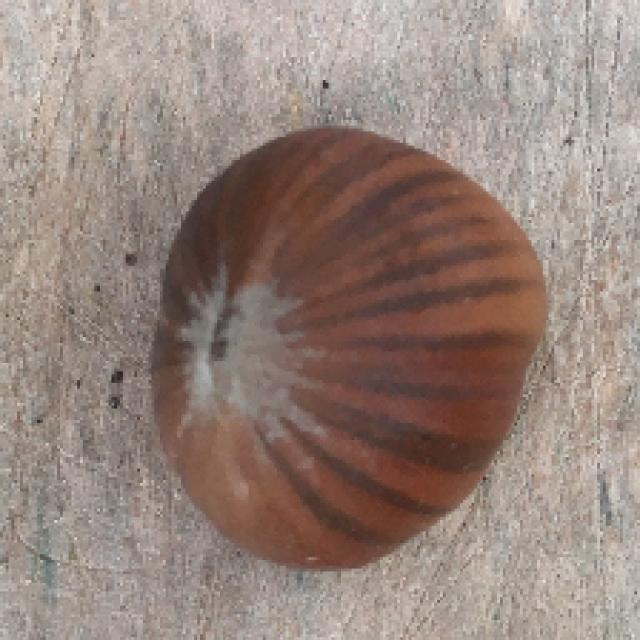damagedHazelnut: (142, 123, 558, 573)
